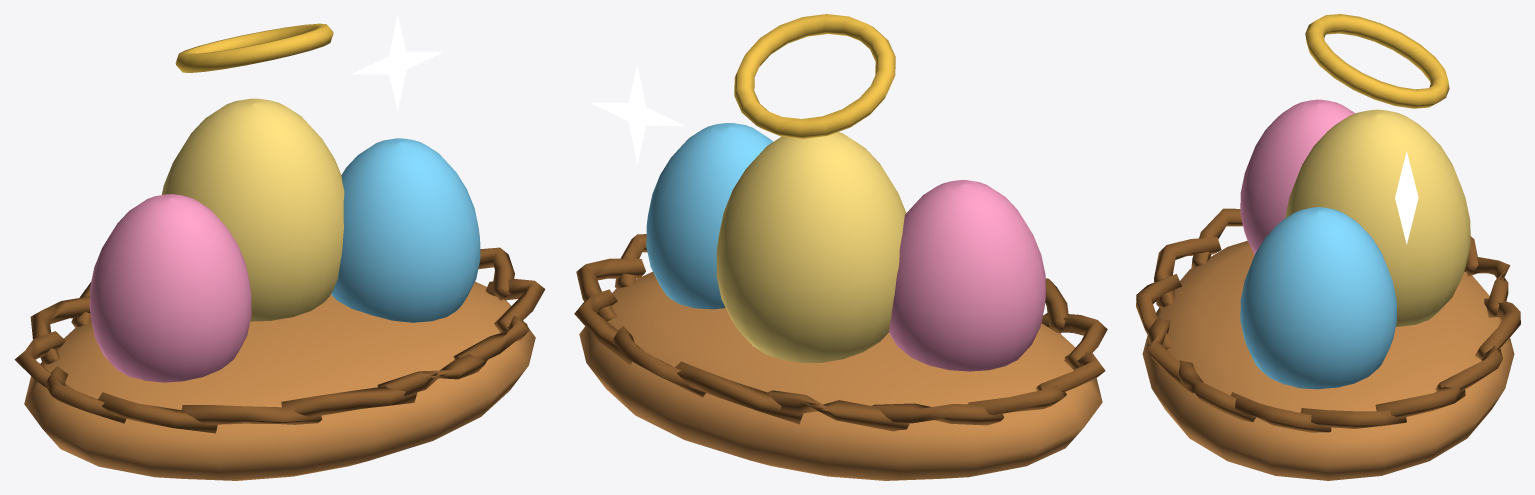
File: PassTripleHatch.glb
The picture shows the model from 3 angles, left to right: view 1: azimuth 30°, elevation 25°; view 2: azimuth 150°, elevation 25°; view 3: azimuth 270°, elevation 25°; orthographic projection. The views are drawn at different scales.
Visible parts, largest first — view 1: Body, Glow; view 2: Body, Glow; view 3: Body, Glow.
Part boxes in pixels (box(x1,y1,x2,y2)): Body: box(14, 23, 545, 480); Glow: box(352, 14, 443, 111); Body: box(574, 14, 1107, 480); Glow: box(590, 65, 684, 163); Body: box(1136, 14, 1520, 480); Glow: box(1395, 151, 1418, 244).
Size of the model in its own units: 2.77 by 2.19 by 1.97.
Materials: 2 (1 with a texture image).
